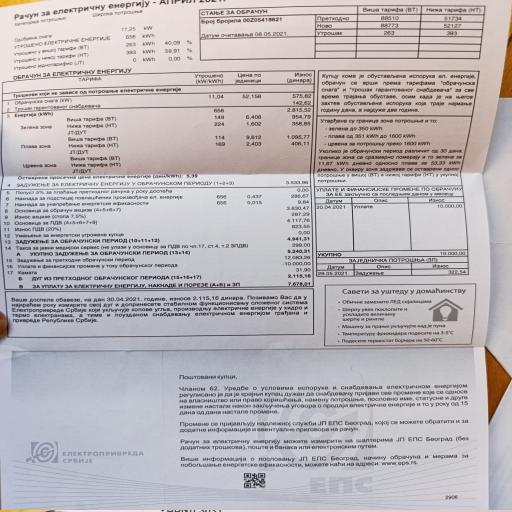racun_za_struju: (0, 62, 318, 189)
